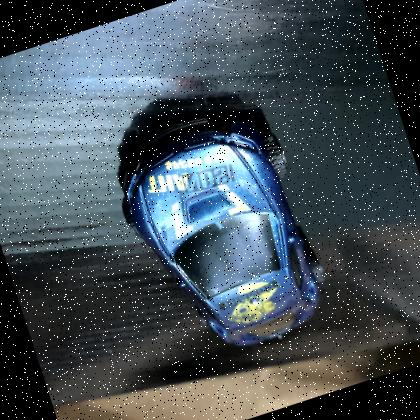Car: (117, 110, 323, 345)
